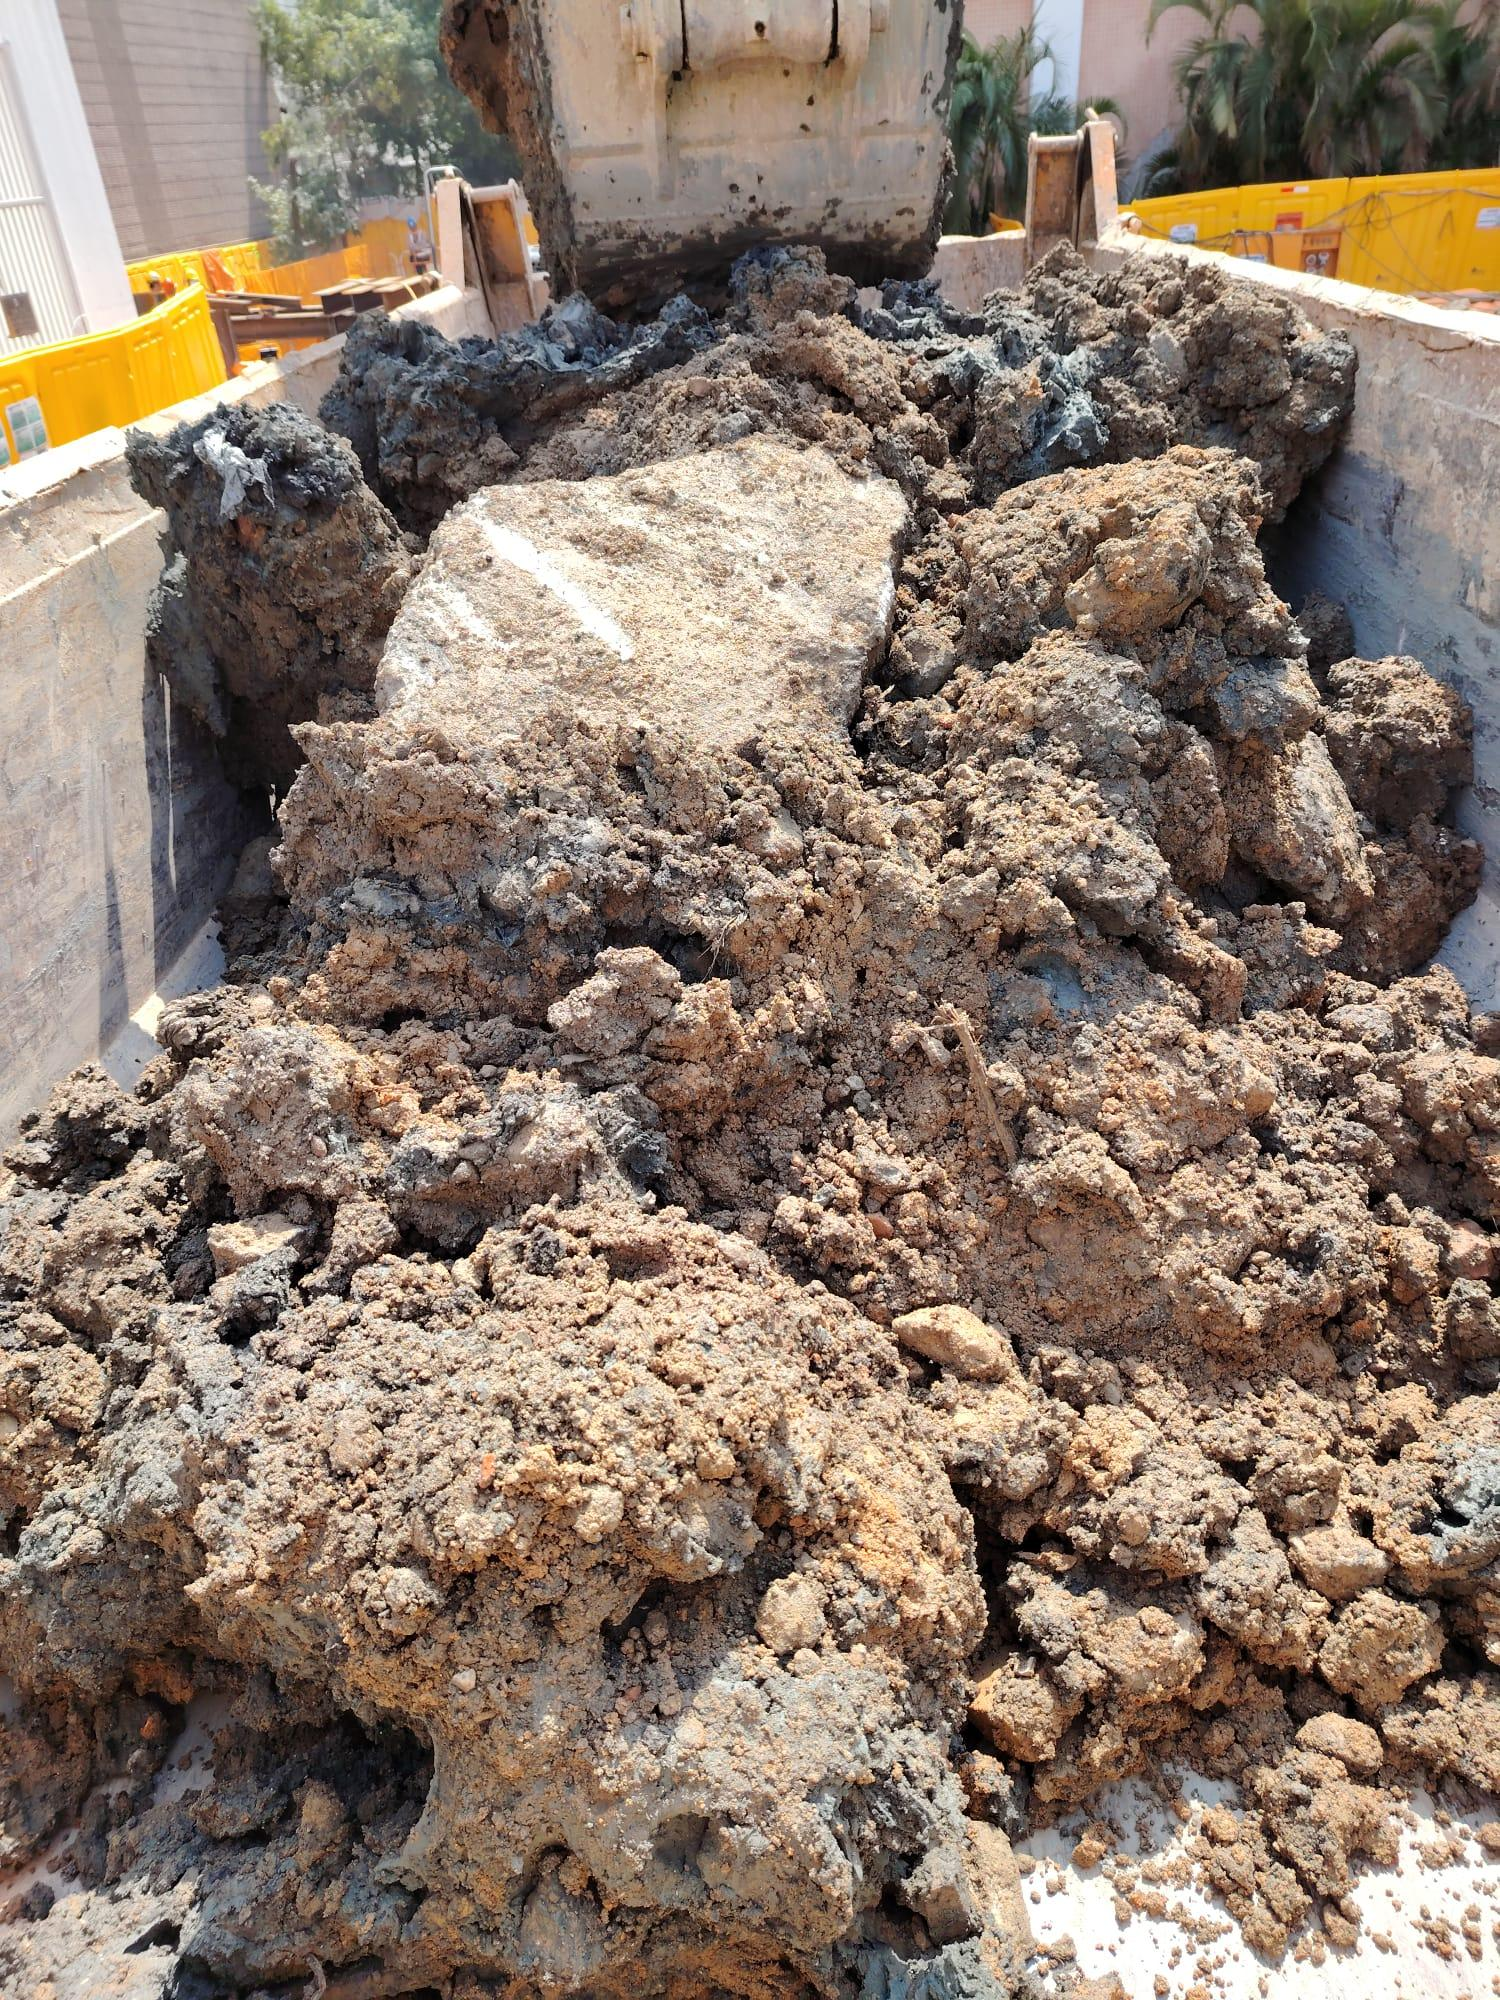wet: (17, 277, 1460, 1990)
